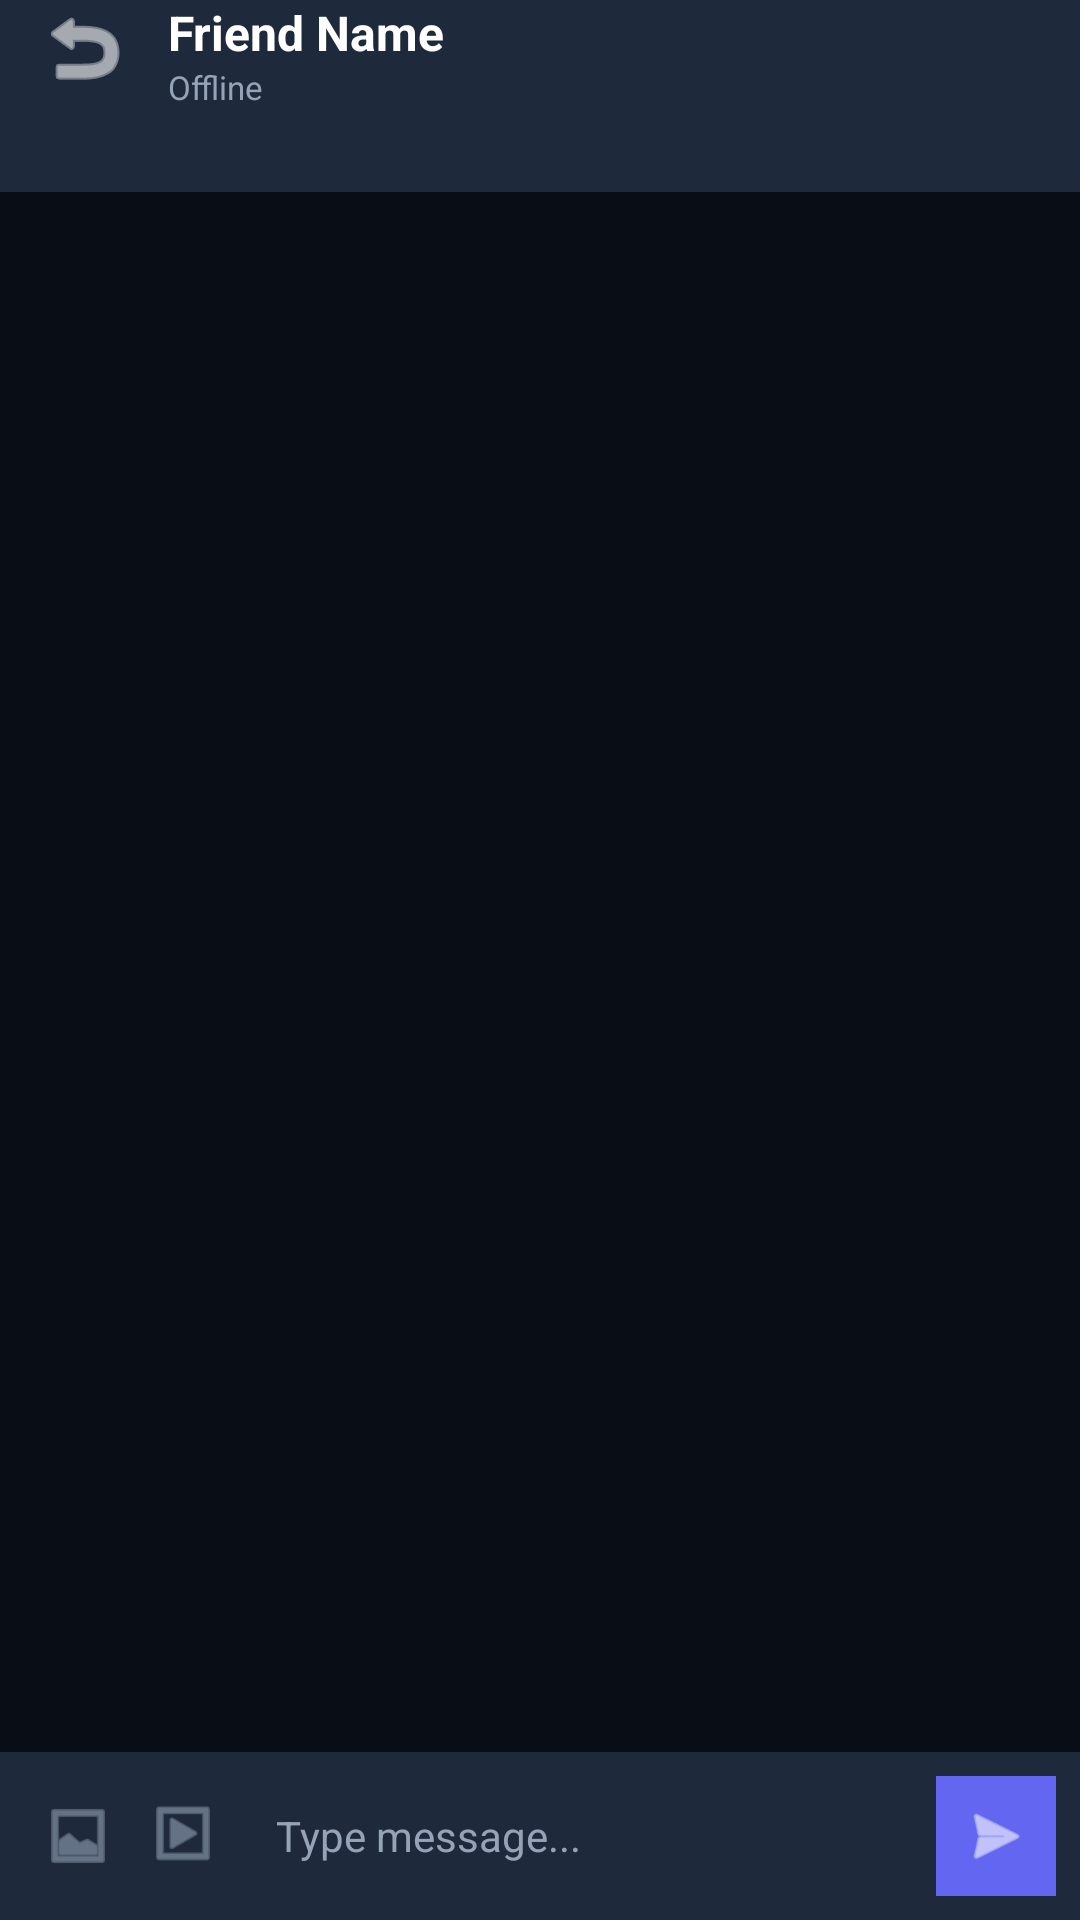

Locate icon controls on the screen. Image size 1080×1920, boxes as bbox=(x1, y1, x2, y2).
Attach Image: bbox=(51, 1809, 105, 1863)
Attach Video: bbox=(156, 1806, 210, 1860)
Back: bbox=(51, 17, 120, 80)
Send: bbox=(936, 1776, 1056, 1896)
